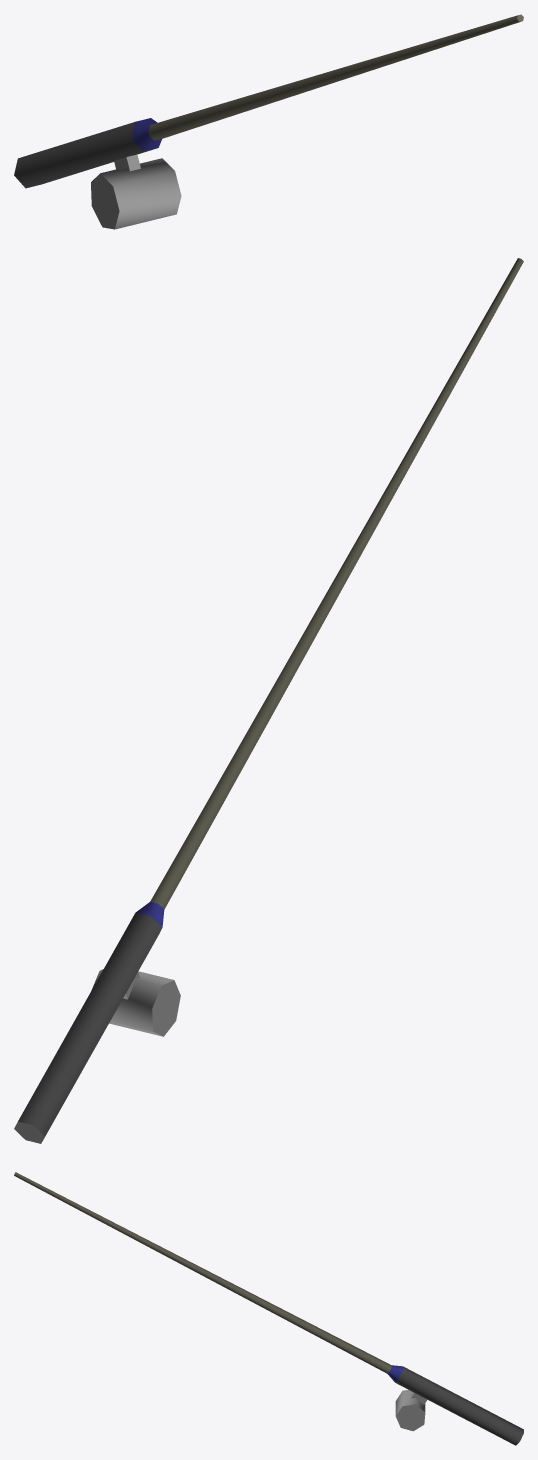
The model's file is rod2.dae.
3 renders of one model, top to bottom at view 1: azimuth 30°, elevation 25°; view 2: azimuth 150°, elevation 25°; view 3: azimuth 270°, elevation 25°, orthographic. The views are drawn at different scales.
Visible parts, largest first — view 1: vsn_mesh_0_Cylinder001; view 2: vsn_mesh_0_Cylinder001; view 3: vsn_mesh_0_Cylinder001.
Boxes of the visible parts, <box> form: vsn_mesh_0_Cylinder001: <box>14,14,523,229</box>; vsn_mesh_0_Cylinder001: <box>14,258,523,1143</box>; vsn_mesh_0_Cylinder001: <box>14,1172,523,1445</box>.
Size of the model in its own units: 0.12 by 0.976 by 1.66.
Materials: 1 (1 with a texture image).
